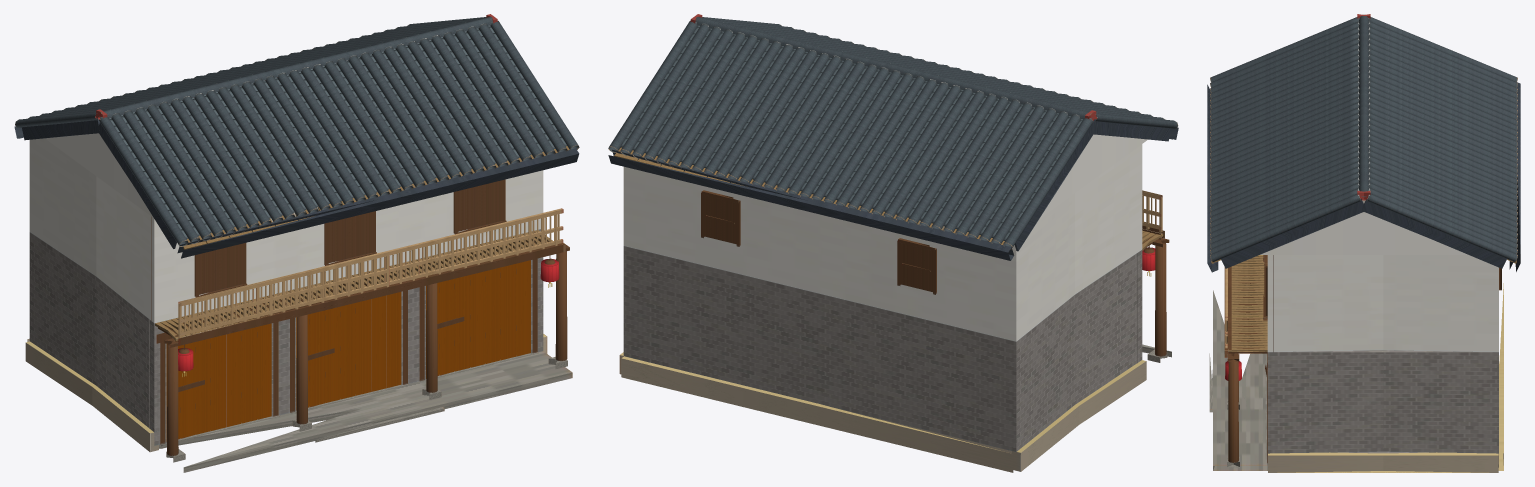
File: lib_lib_house_a2.hd.glb
3 renders of one model, left to right at view 1: azimuth 30°, elevation 25°; view 2: azimuth 150°, elevation 25°; view 3: azimuth 270°, elevation 25°, orthographic. The views are drawn at different scales.
Visible parts, largest first — view 1: house_a2; view 2: house_a2; view 3: house_a2.
Part boxes in pixels (x1,y1,x2,y2): house_a2: (14,14,579,472); house_a2: (608,14,1178,472); house_a2: (1207,14,1520,472).
Size of the model in its own units: 11.12 by 8 by 8.13.
Materials: 8 (8 with a texture image).
